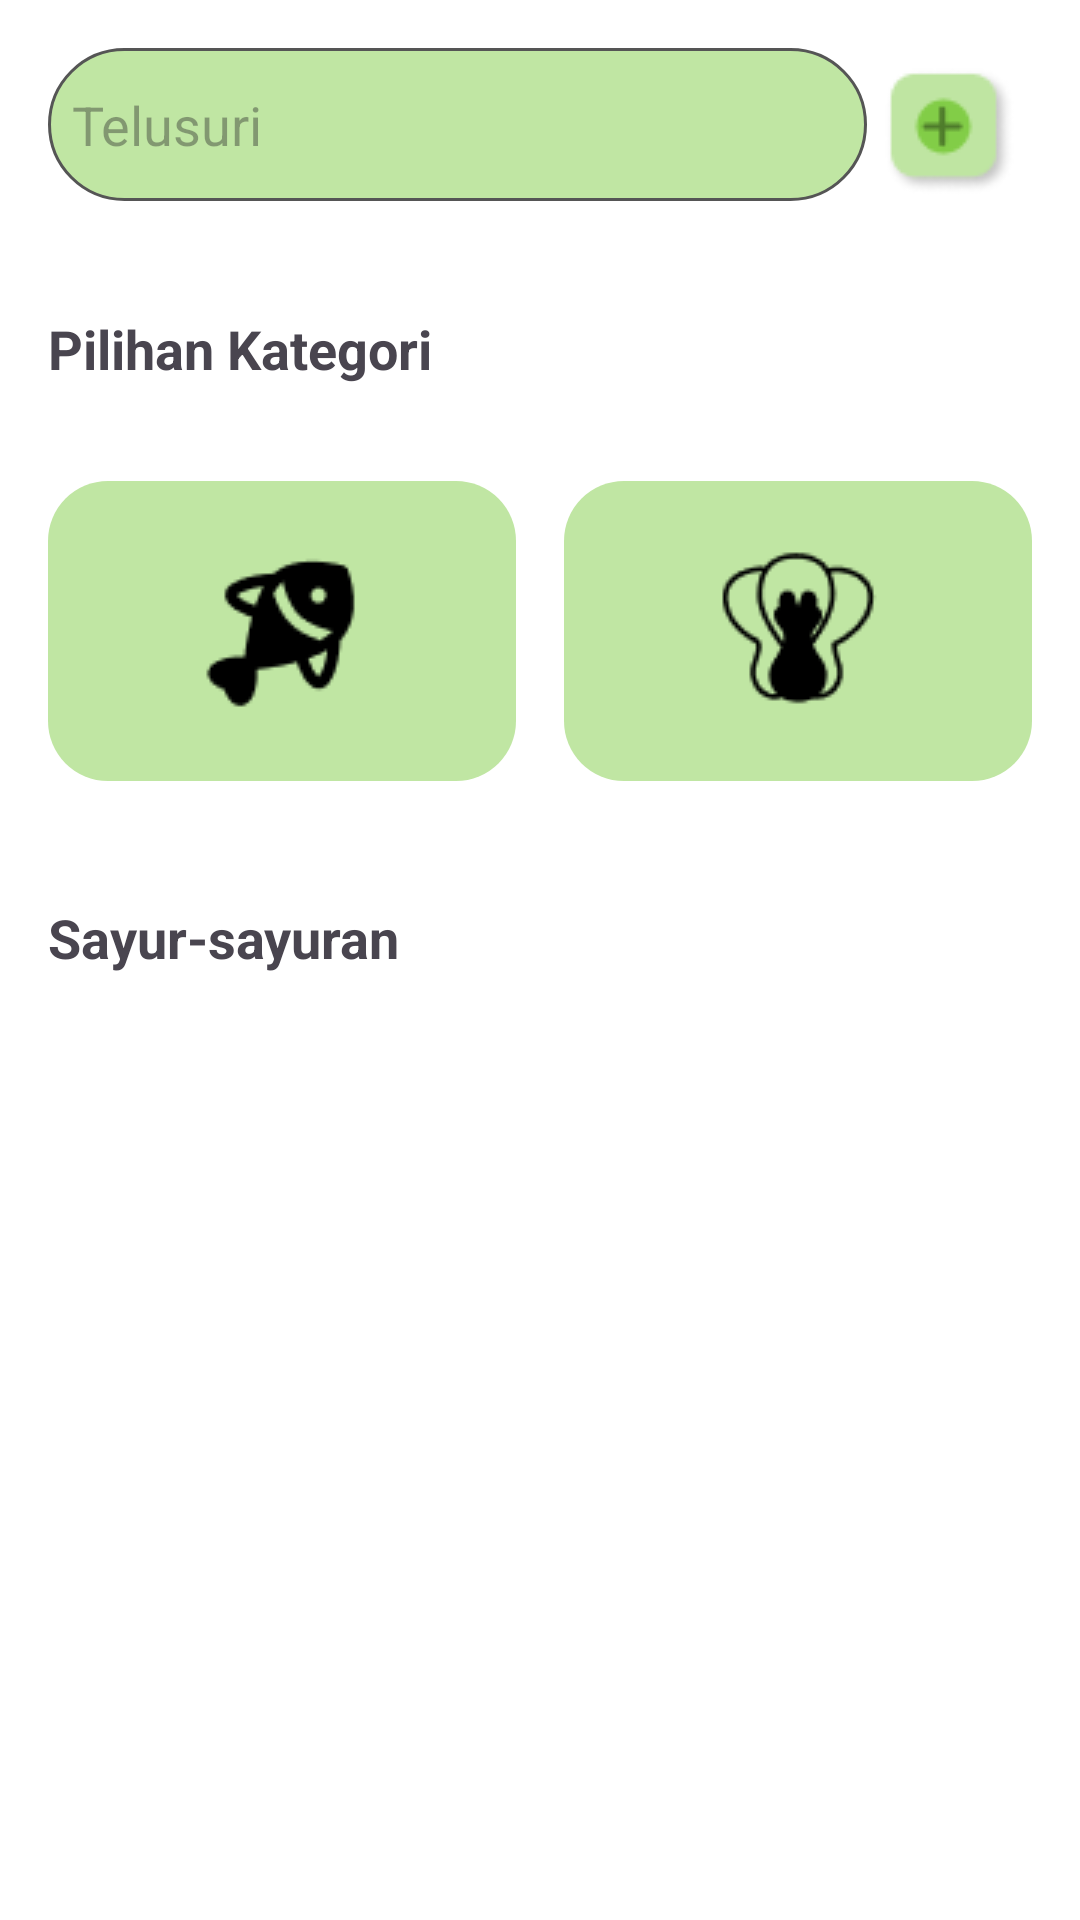

Screen size 1080x1920. Icon name, then its center in pixels as point (x, y):
Add: point (947, 128)
